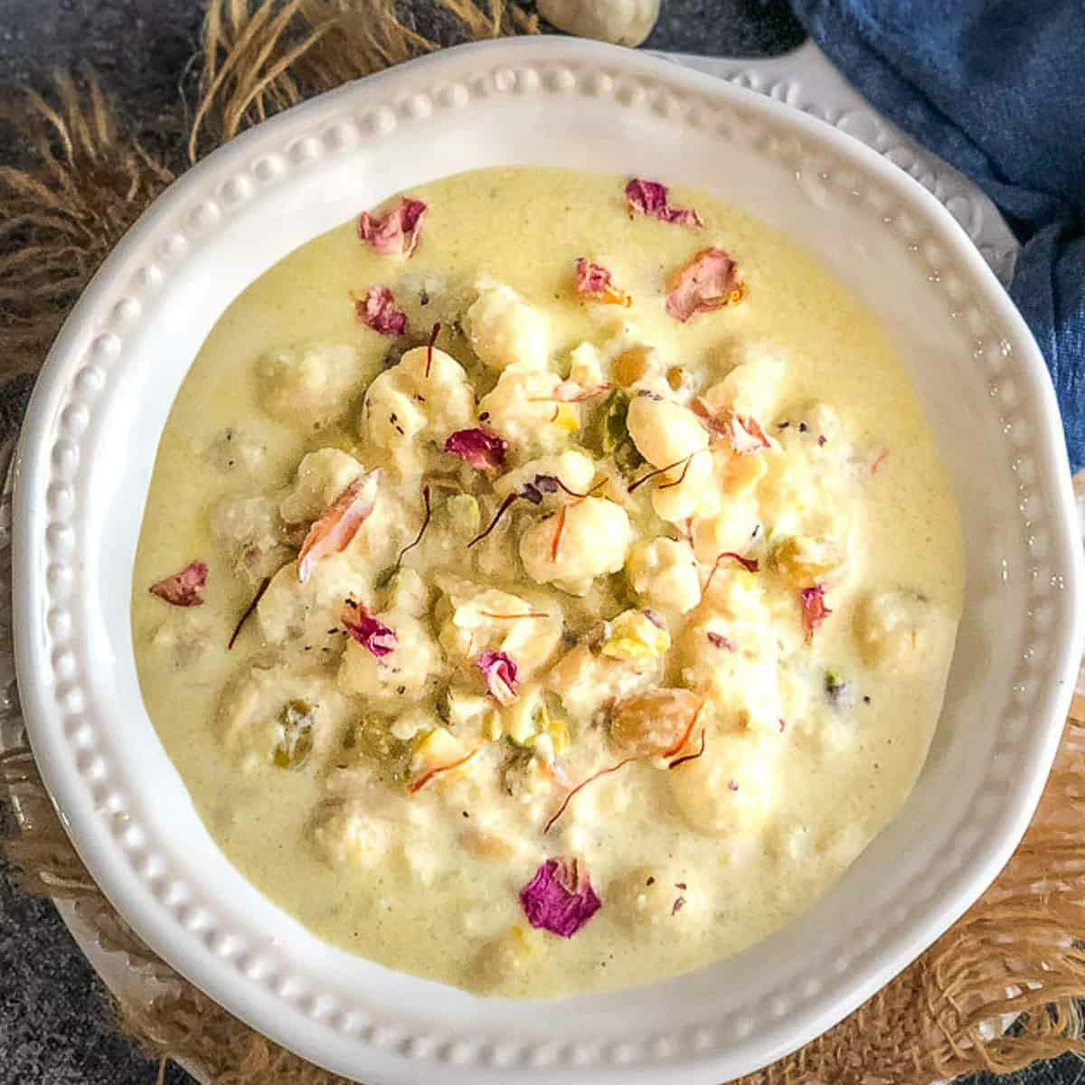Kheer: (129, 163, 961, 992)
